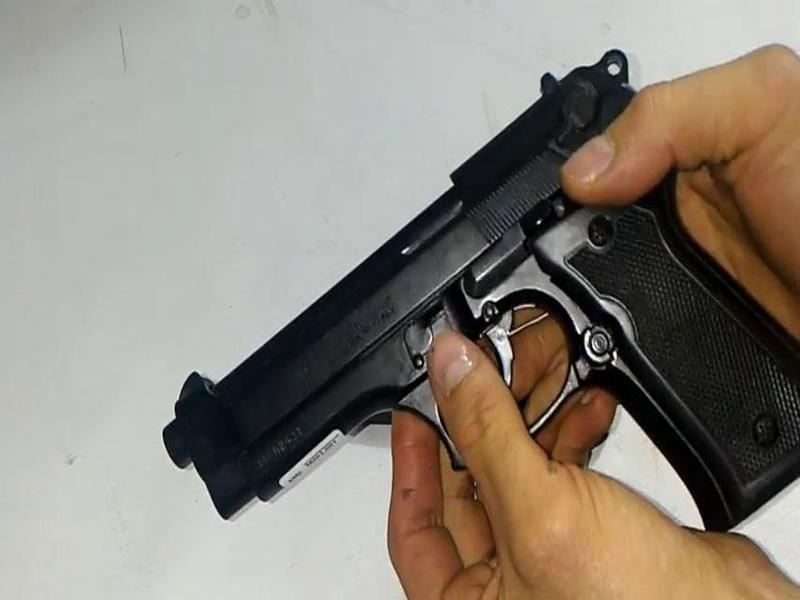Pistola: (128, 43, 774, 537)
